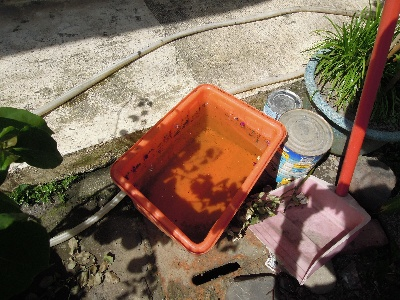bottle: (264, 108, 334, 187)
box: (110, 82, 290, 255)
